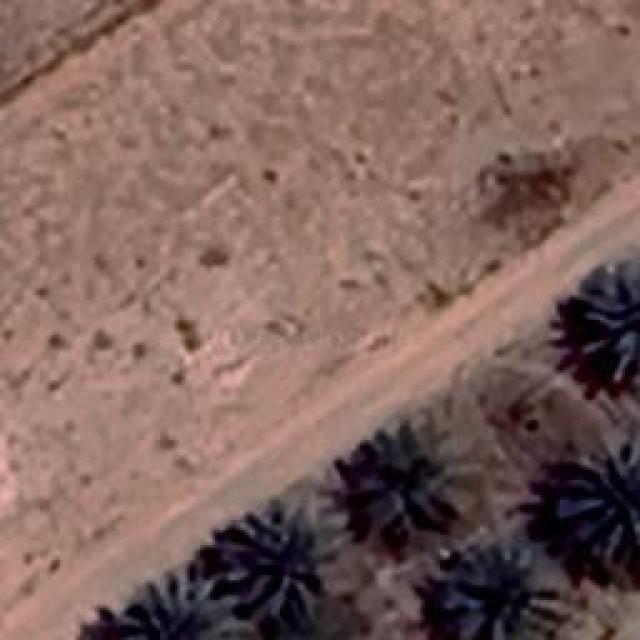PalmTree: (344, 415, 478, 535), (210, 498, 322, 620), (440, 538, 572, 638), (552, 438, 638, 560), (92, 585, 238, 640), (578, 262, 638, 382)
